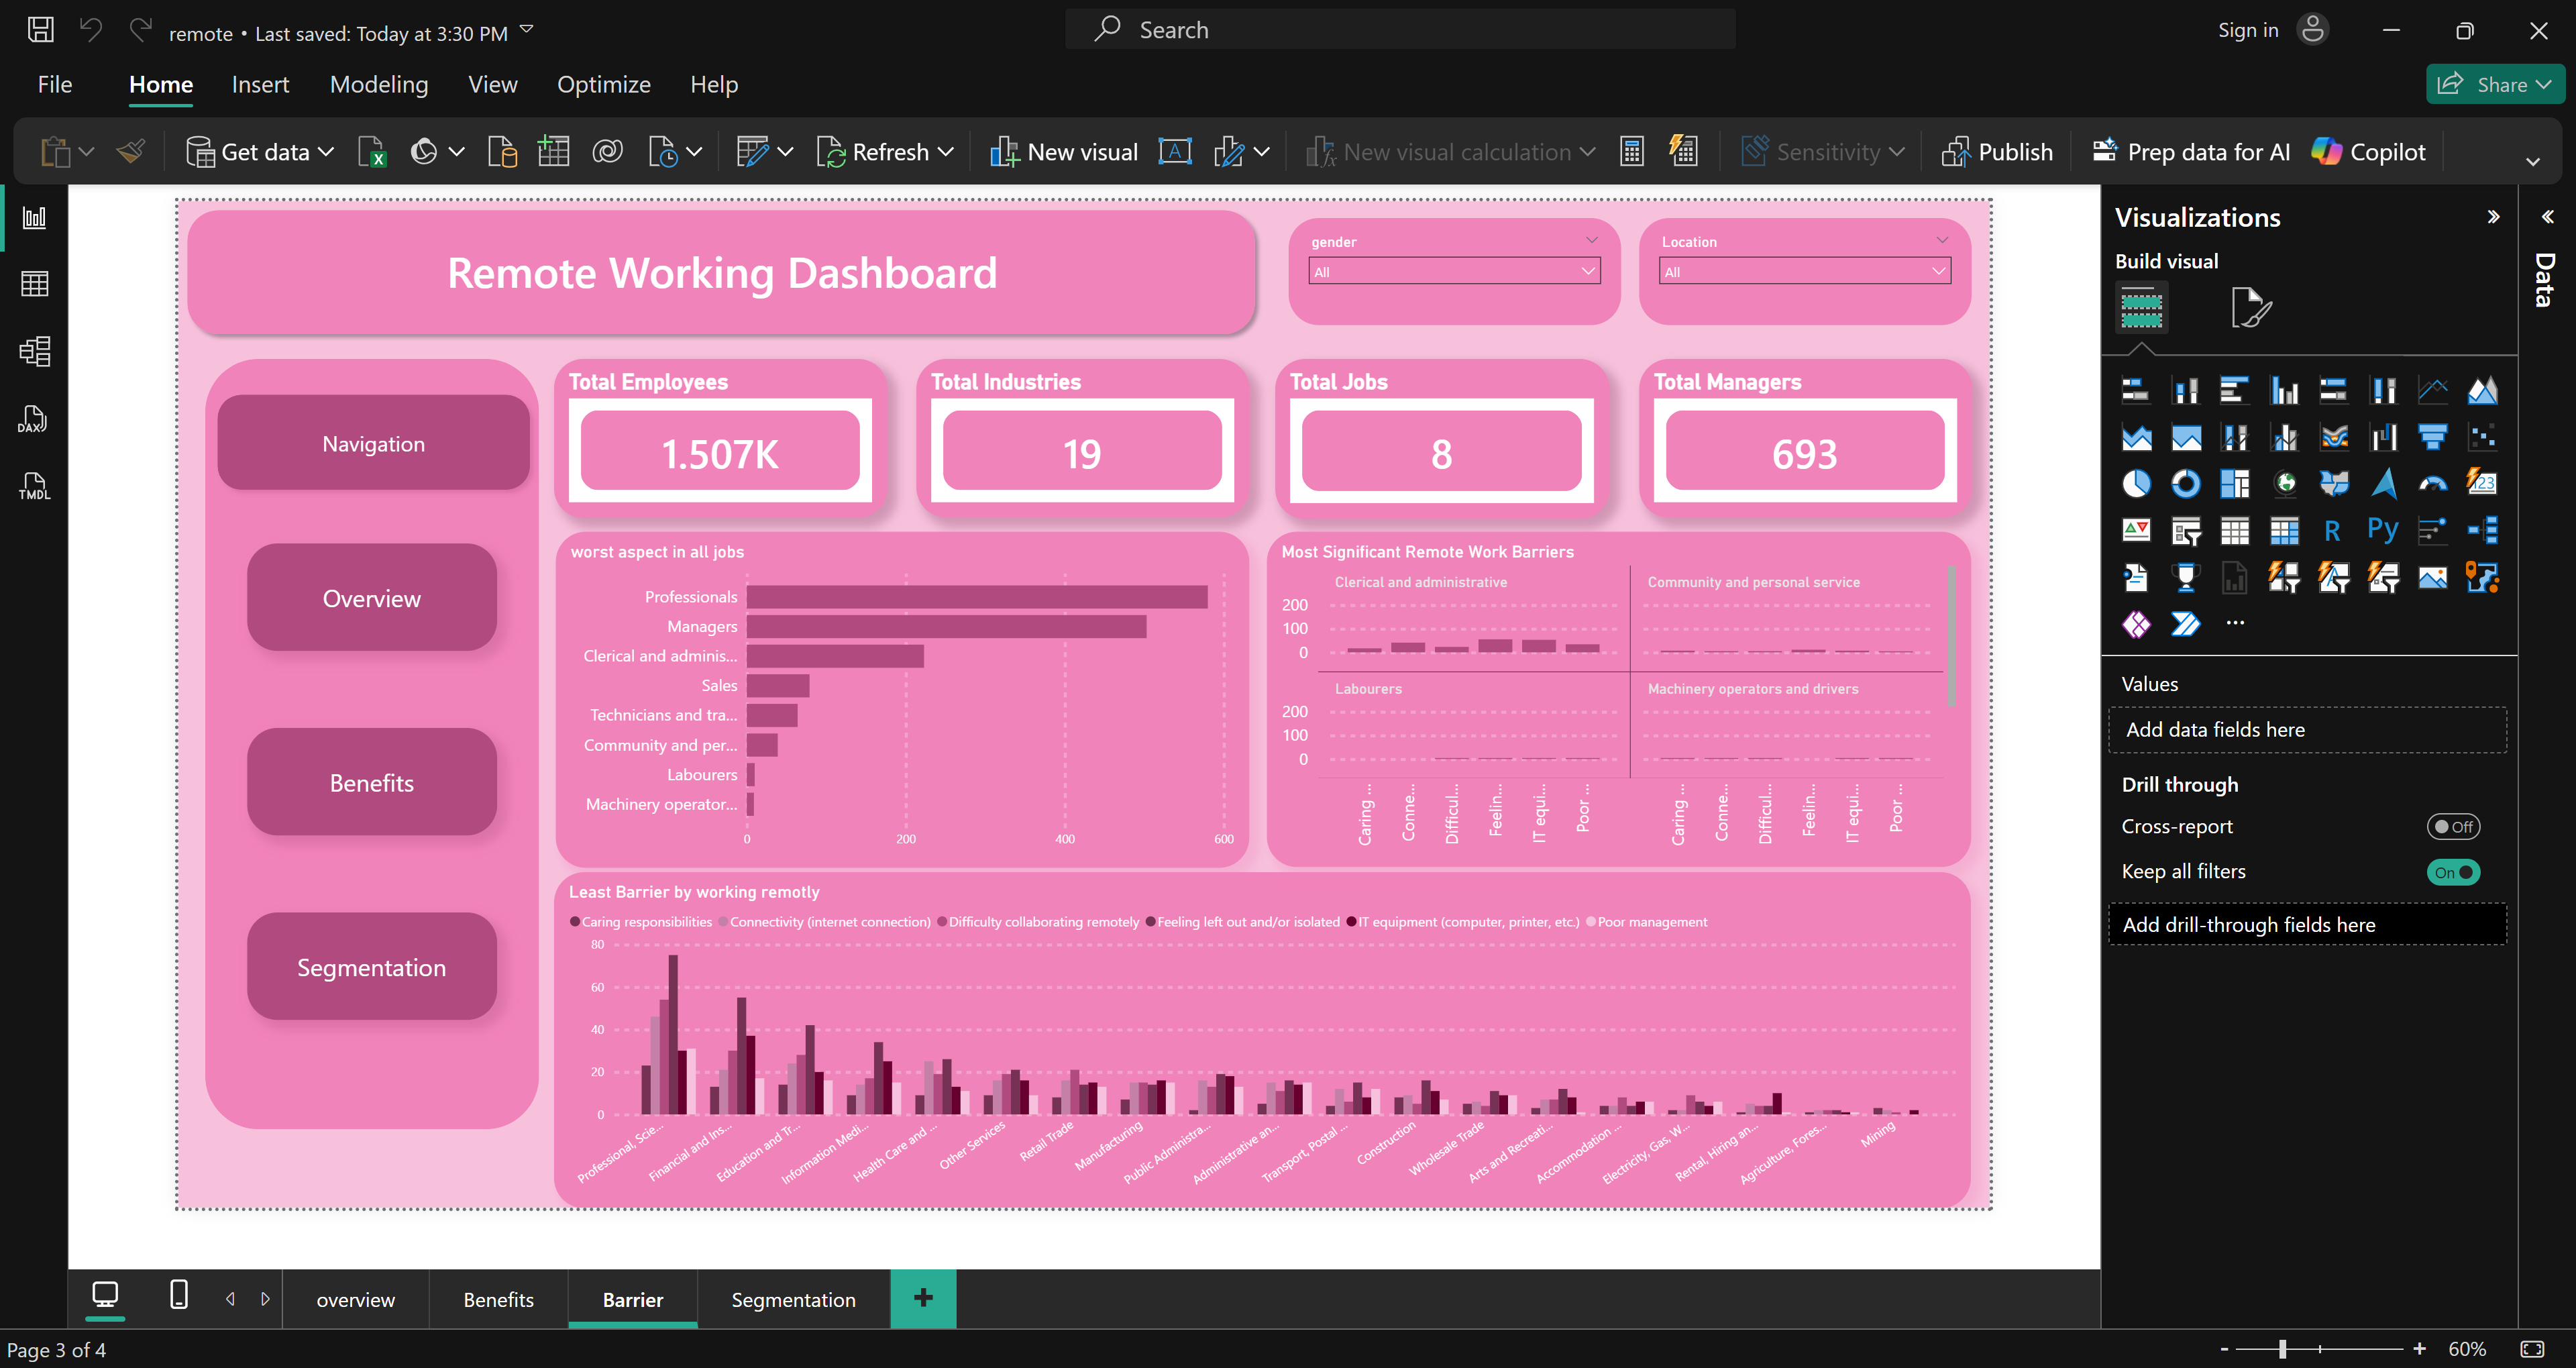

The dashboard page shown, as its layout file describes it:
{"tool":"powerbi","page":{"name":"Barrier","canvas":[1800,1000],"ordinal":2},"visuals":[{"type":"group","id":"g1","title":"Group 1","box":[374.1,156.5,1408.9,159.7],"z":0},{"type":"cardVisual","title":"Total Industries","fields":{"Data":["Count(remote_working_2020.Which of the following best describes your industry?)"]},"box":[733.4,156.5,331.1,157.7],"z":0,"group":"g1"},{"type":"shape","box":[0,0,1078.6,140.9],"z":1000},{"type":"cardVisual","title":"Total Employees","fields":{"Data":["CountNonNull(remote_working_2020.Response ID)"]},"box":[374.1,156.5,331.1,158.1],"z":1000,"group":"g1"},{"type":"textbox","box":[64.2,34.4,951.8,72],"z":2000},{"type":"cardVisual","title":"Total Managers","fields":{"Data":["RemoteWorking.Managers Total"]},"box":[1451.9,156.5,331.1,158.1],"z":2000,"group":"g1"},{"type":"slicer","fields":{"Values":["RemoteWorking.What is your gender?"]},"box":[1103.6,17.2,330.3,106.5],"z":3000},{"type":"cardVisual","title":"Total Jobs","fields":{"Data":["Count(remote_working_2020.Which of the following best describes your current occupation?)"]},"box":[1091.5,156.7,332.6,159],"z":3000,"group":"g1"},{"type":"slicer","fields":{"Values":["RemoteWorking.Metro / Regional"]},"box":[1451.2,17.2,330.3,106.5],"z":4000},{"type":"shape","box":[25.9,157.2,331.7,765.4],"z":5000},{"type":"shape","box":[29.4,183.1,328.3,112.3],"z":6000},{"type":"clusteredBarChart","title":"worst aspect in all jobs","fields":{"Y":["CountNonNull(RemoteWorking.Compare remote working to working at your employer’s workplace. Select the worst aspect of re"],"Category":["RemoteWorking.Which of the following best describes your current occupation?"]},"box":[374.7,328.5,689,333.9],"z":7000},{"type":"clusteredColumnChart","title":"Least Barrier by working remotly","fields":{"Category":["RemoteWorking.Which of the following best describes your industry?"],"Y":["CountNonNull(RemoteWorking.From the following, please select the most significant barrier to doing your work remotely - "],"Series":["RemoteWorking.From the following, please select the most significant barrier to doing your work remotely - Connectivity "]},"box":[374,666,1408,334],"z":8000},{"type":"clusteredColumnChart","title":"Most Significant Remote Work Barriers","fields":{"Rows":["RemoteWorking.Which of the following best describes your current occupation?"],"Y":["CountNonNull(RemoteWorking.Response ID)"],"Category":["RemoteWorking.From the following, please select the most significant barrier to doing your work remotely - Connectivity "]},"box":[1081.7,328.3,700,333.3],"z":9000},{"type":"actionButton","box":[68.3,340,248.3,106.7],"z":10000},{"type":"actionButton","box":[68.3,523.3,248.3,106.7],"z":11000},{"type":"actionButton","box":[68.3,706.7,248.3,106.7],"z":12000}]}

Visuals, with their boxes on the page's 1800x1000 design canvas (x1, y1, x2, y2). These are canvas units, not pixel positions in the 2576x1368 screenshot, which may show the page scaled, cropped or inside an application window:
"Group 1" group: box=[374, 156, 1783, 316]
"Total Industries" cardVisual: box=[733, 156, 1064, 314]
shape: box=[0, 0, 1079, 141]
"Total Employees" cardVisual: box=[374, 156, 705, 315]
textbox: box=[64, 34, 1016, 106]
"Total Managers" cardVisual: box=[1452, 156, 1783, 315]
slicer - RemoteWorking.What is your gender?: box=[1104, 17, 1434, 124]
"Total Jobs" cardVisual: box=[1092, 157, 1424, 316]
slicer - RemoteWorking.Metro / Regional: box=[1451, 17, 1782, 124]
shape: box=[26, 157, 358, 923]
shape: box=[29, 183, 358, 295]
"worst aspect in all jobs" clusteredBarChart: box=[375, 328, 1064, 662]
"Least Barrier by working remotly" clusteredColumnChart: box=[374, 666, 1782, 1000]
"Most Significant Remote Work Barriers" clusteredColumnChart: box=[1082, 328, 1782, 662]
actionButton: box=[68, 340, 317, 447]
actionButton: box=[68, 523, 317, 630]
actionButton: box=[68, 707, 317, 813]
